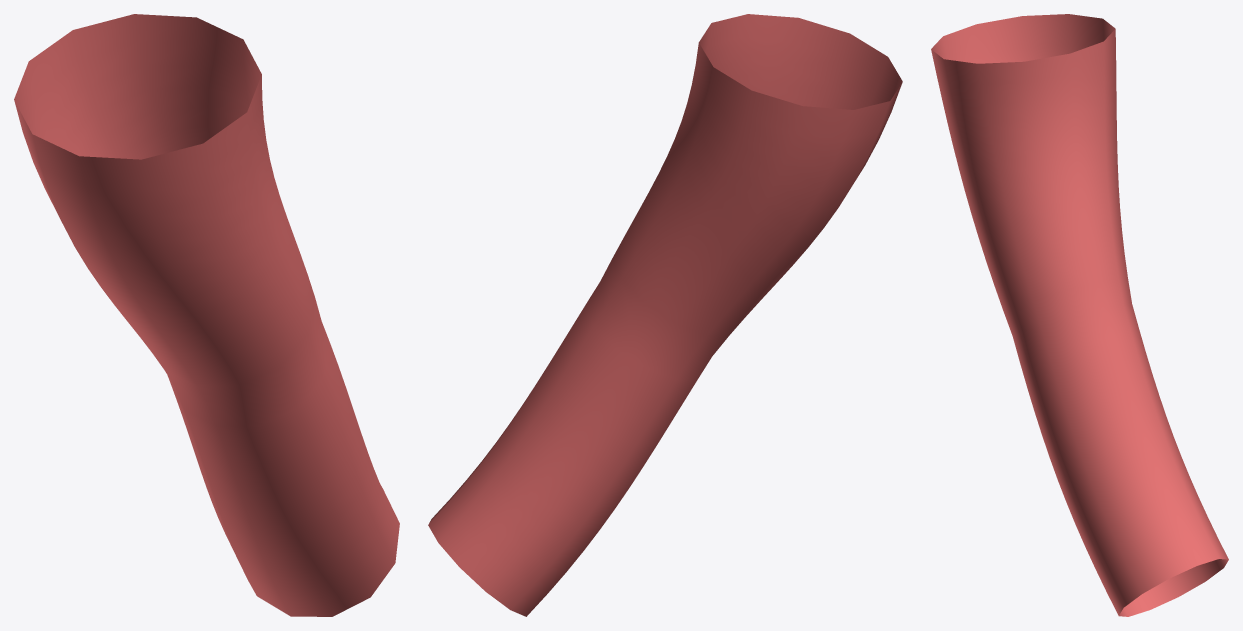
File: Common_iliac_artery.l_BezierCurve.246.glb
3 renders of one model, left to right at view 1: azimuth 30°, elevation 25°; view 2: azimuth 150°, elevation 25°; view 3: azimuth 270°, elevation 25°, orthographic. The views are drawn at different scales.
Parts seen in each view (by area): view 1: Common_iliac_artery.l_BezierCurve.246; view 2: Common_iliac_artery.l_BezierCurve.246; view 3: Common_iliac_artery.l_BezierCurve.246.
Boxes of the visible parts, x1,y1,x2,y2 form: Common_iliac_artery.l_BezierCurve.246: (14, 14, 399, 616); Common_iliac_artery.l_BezierCurve.246: (428, 14, 902, 616); Common_iliac_artery.l_BezierCurve.246: (931, 14, 1228, 616).
Size of the model in its own units: 0.0374 by 0.0537 by 0.0289.
